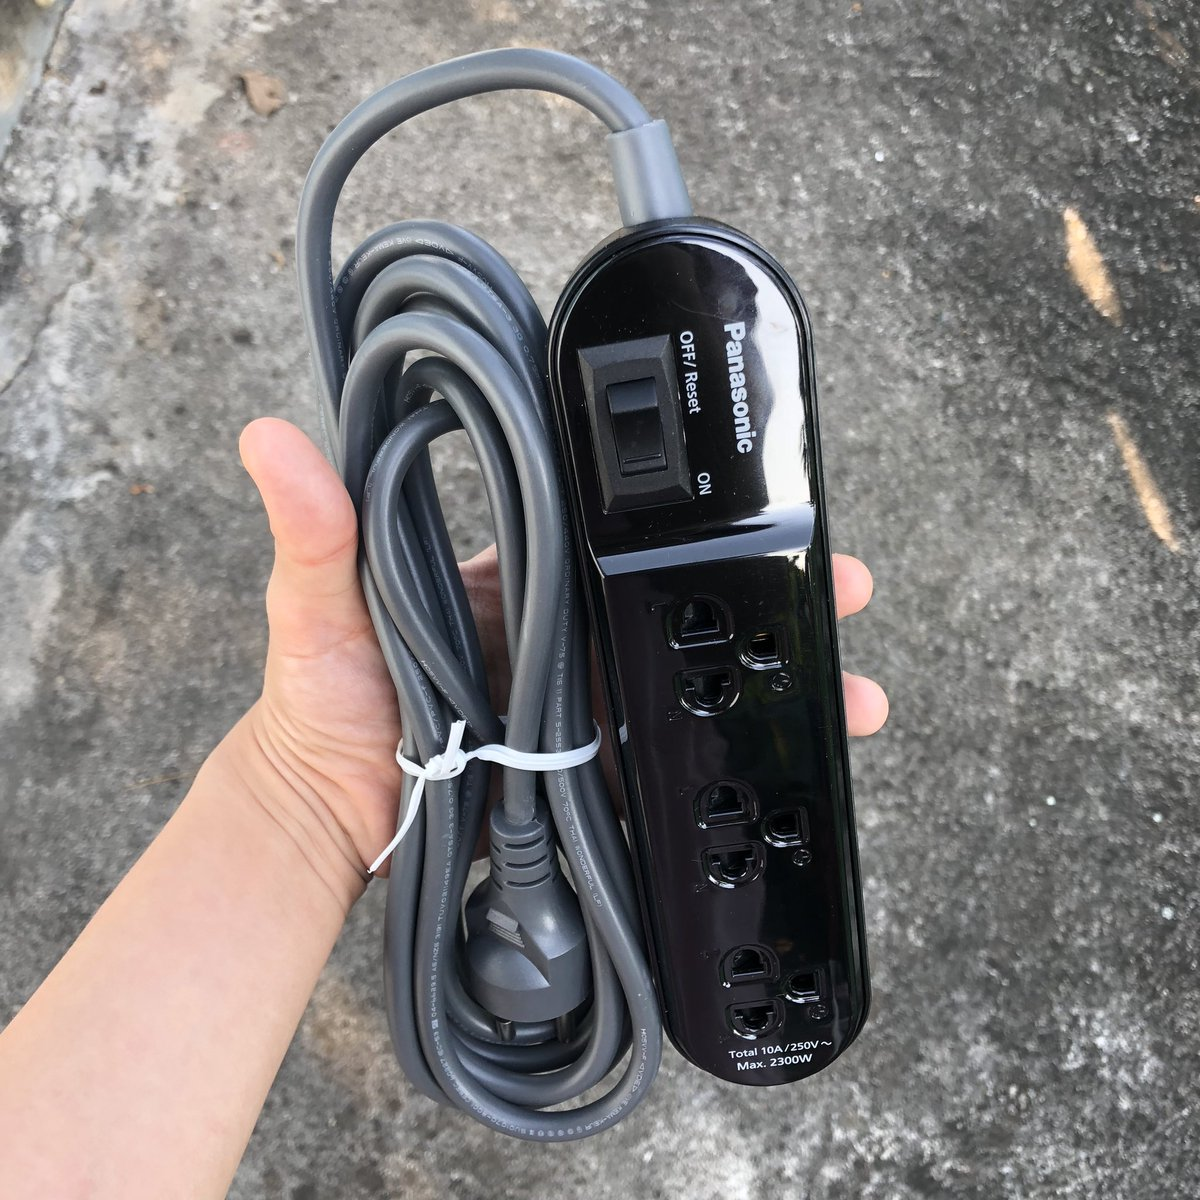Three_eye_plug: (534, 196, 882, 1105)
